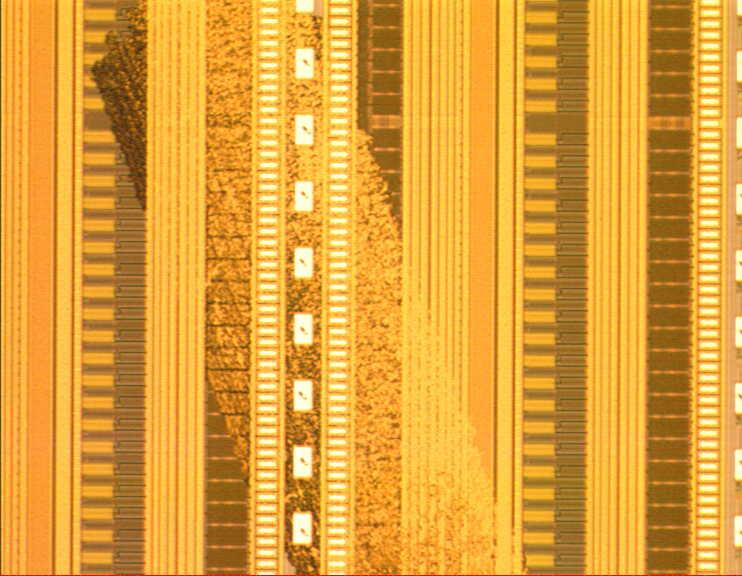BLOCK ETCH: (93, 1, 536, 576)
